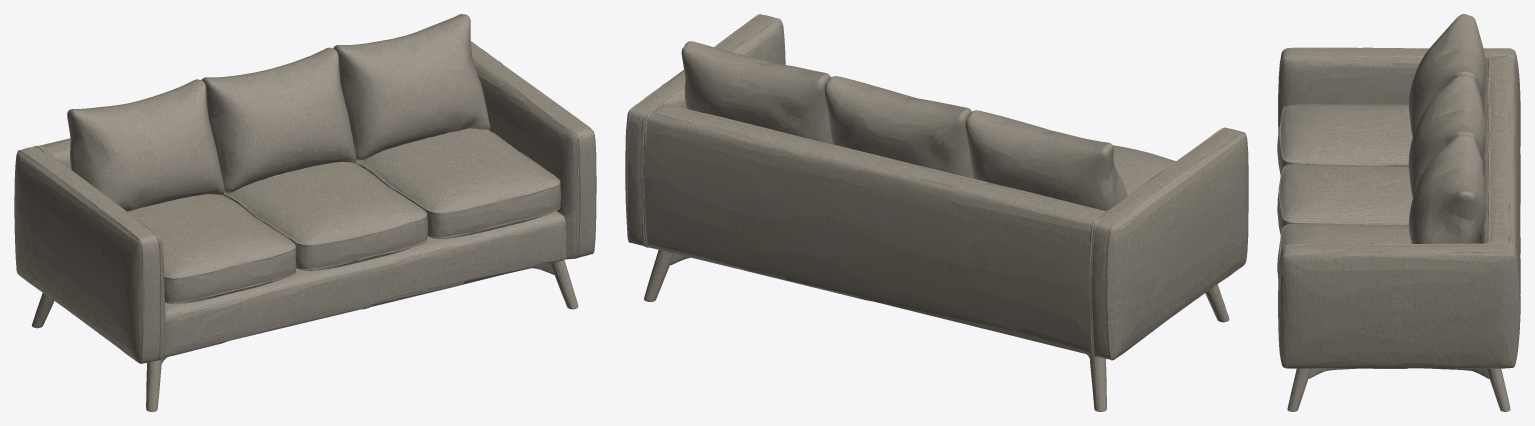
Rendered from sofa.glb.
3 renders of one model, left to right at view 1: azimuth 30°, elevation 25°; view 2: azimuth 150°, elevation 25°; view 3: azimuth 270°, elevation 25°, orthographic. The views are drawn at different scales.
Size of the model in its own units: 1.9 by 0.8876 by 0.9247.
Materials: 1 (1 with a texture image).
